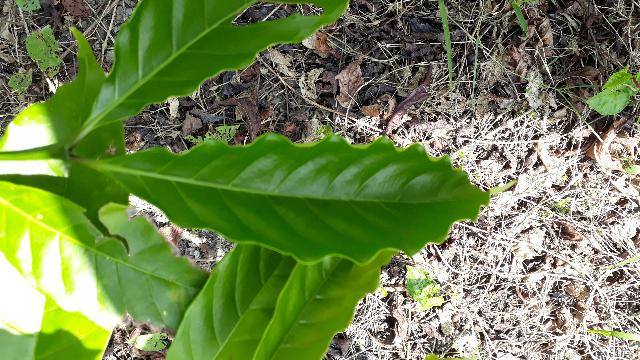healthy: (92, 132, 521, 264)
